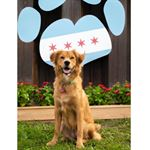puppy: (41, 49, 94, 149)
